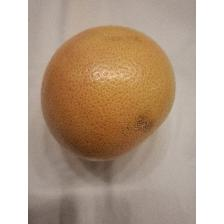Pampelmuse: (38, 23, 178, 165)
